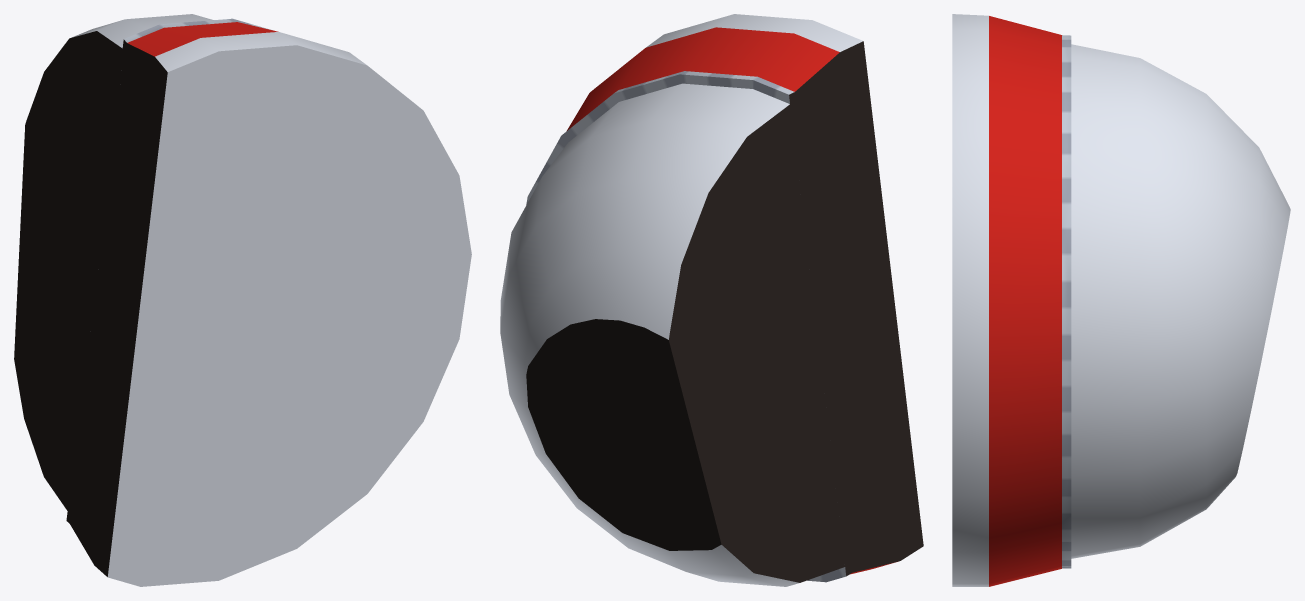
The model's file is guard_shield_generator_debris2.obj.
The picture shows the model from 3 angles, left to right: view 1: azimuth 30°, elevation 25°; view 2: azimuth 150°, elevation 25°; view 3: azimuth 270°, elevation 25°; orthographic projection.
Parts seen in each view (by area): view 1: drum, dome; view 2: dome, drum; view 3: dome, drum.
Part boxes in pixels (x1,y1,x2,y2): drum: (66,18,471,586); dome: (14,14,213,510); dome: (500,83,844,586); drum: (526,14,923,582); dome: (1071,44,1290,558); drum: (952,14,1071,586).
Size of the model in its own units: 4.61 by 6.4 by 3.7.
Materials: 4 (1 with a texture image).
